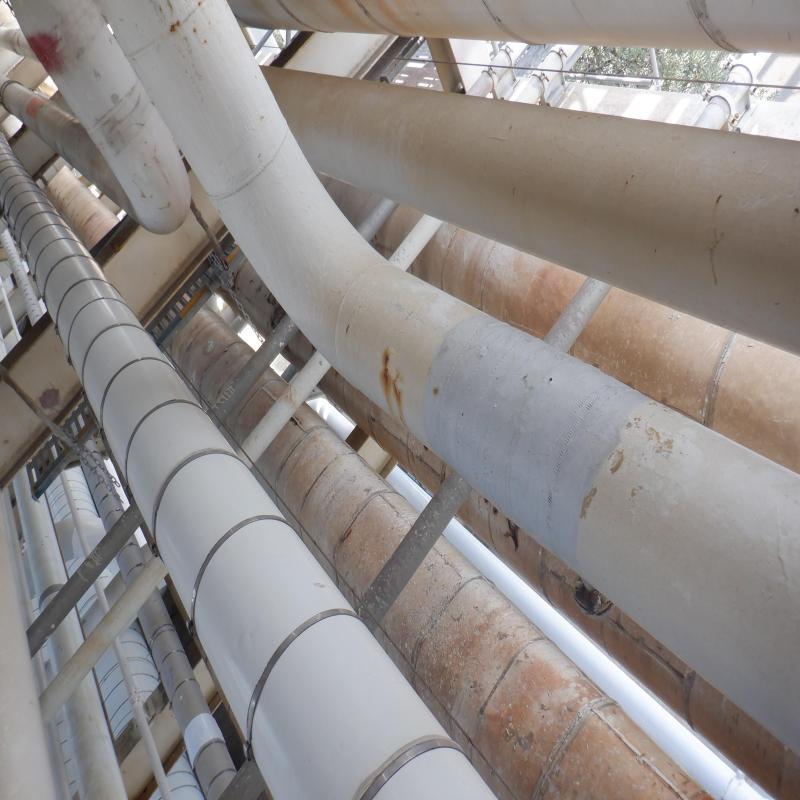corrosion: (381, 349, 402, 406), (167, 17, 186, 37)
